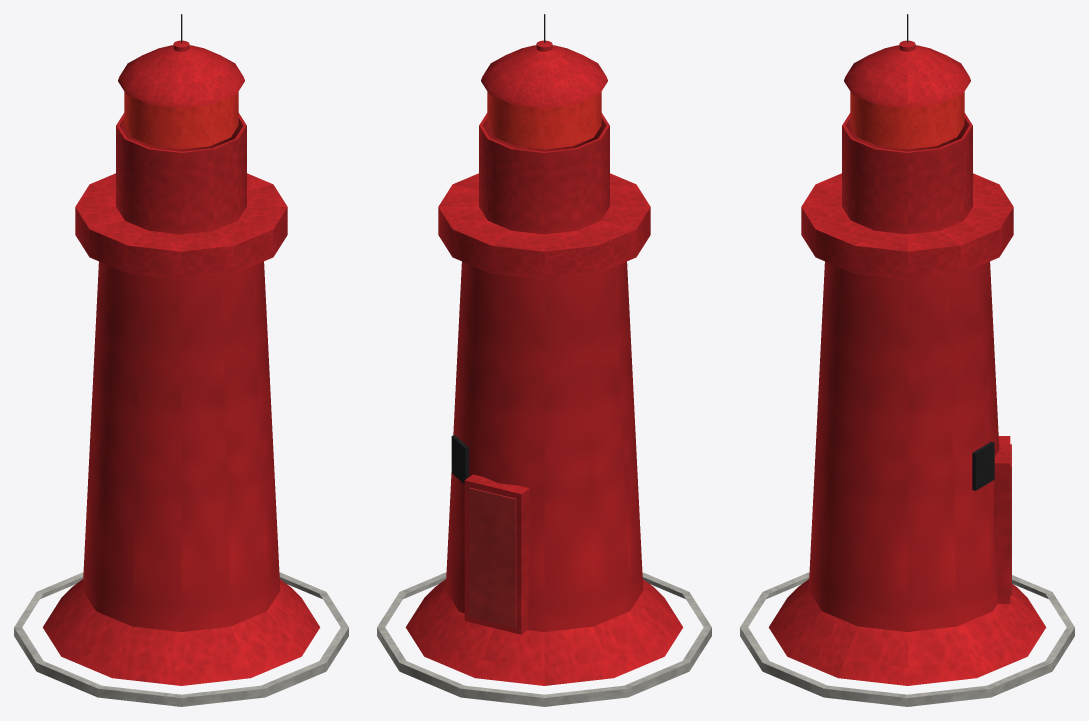
Rendered from SM_MoloItalia_Faro_v2_LOD2.fbx.
3 views of the same model, side by side, from view 1: azimuth 30°, elevation 25°; view 2: azimuth 150°, elevation 25°; view 3: azimuth 270°, elevation 25° (orthographic).
Parts seen in each view (by area): view 1: SM_MoloItalia_Faro_v2_LOD2; view 2: SM_MoloItalia_Faro_v2_LOD2; view 3: SM_MoloItalia_Faro_v2_LOD2.
Boxes of the visible parts, x1=… form: SM_MoloItalia_Faro_v2_LOD2: x1=14, y1=14, x2=348, y2=706; SM_MoloItalia_Faro_v2_LOD2: x1=377, y1=14, x2=711, y2=706; SM_MoloItalia_Faro_v2_LOD2: x1=740, y1=14, x2=1074, y2=706.
Size of the model in its own units: 410 by 410 by 840.
Materials: 2 (2 with a texture image).
